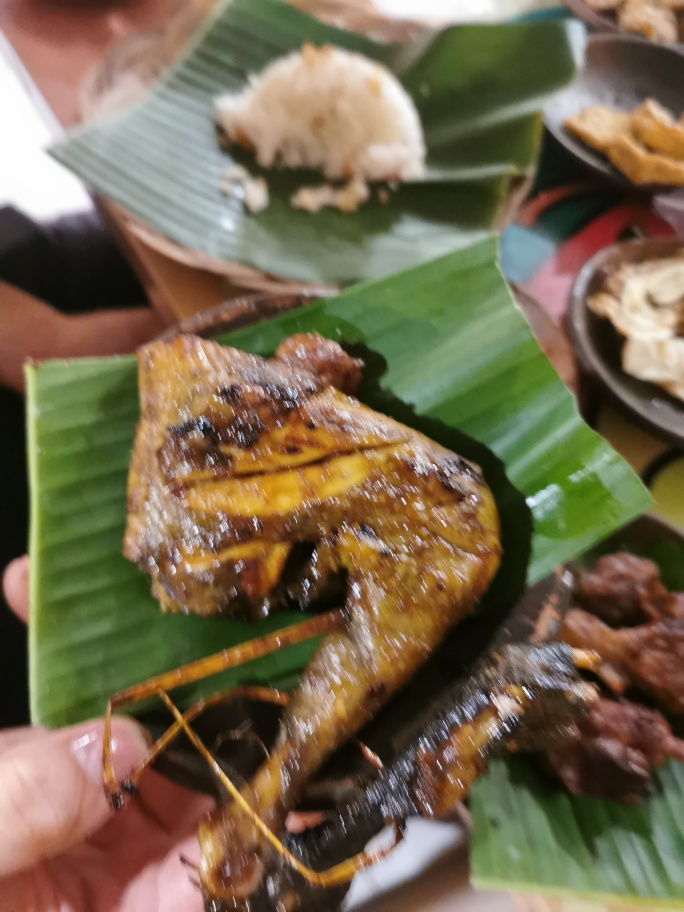ayam bakar: (135, 332, 533, 912)
